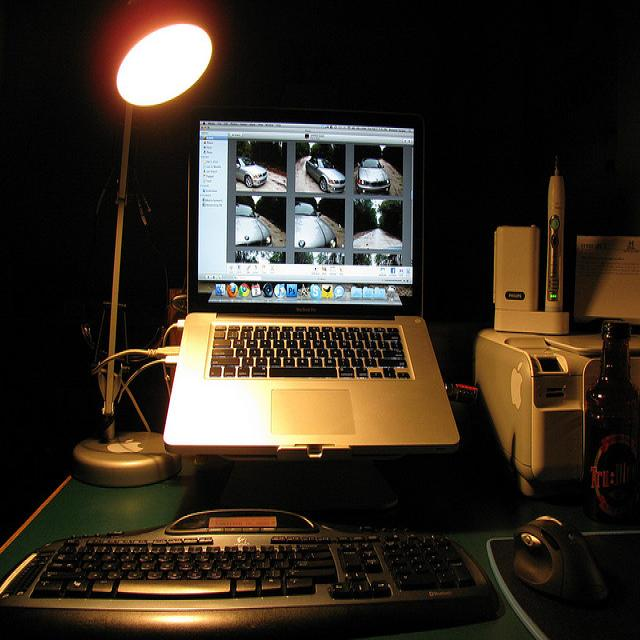Bottle: (581, 305, 640, 564)
